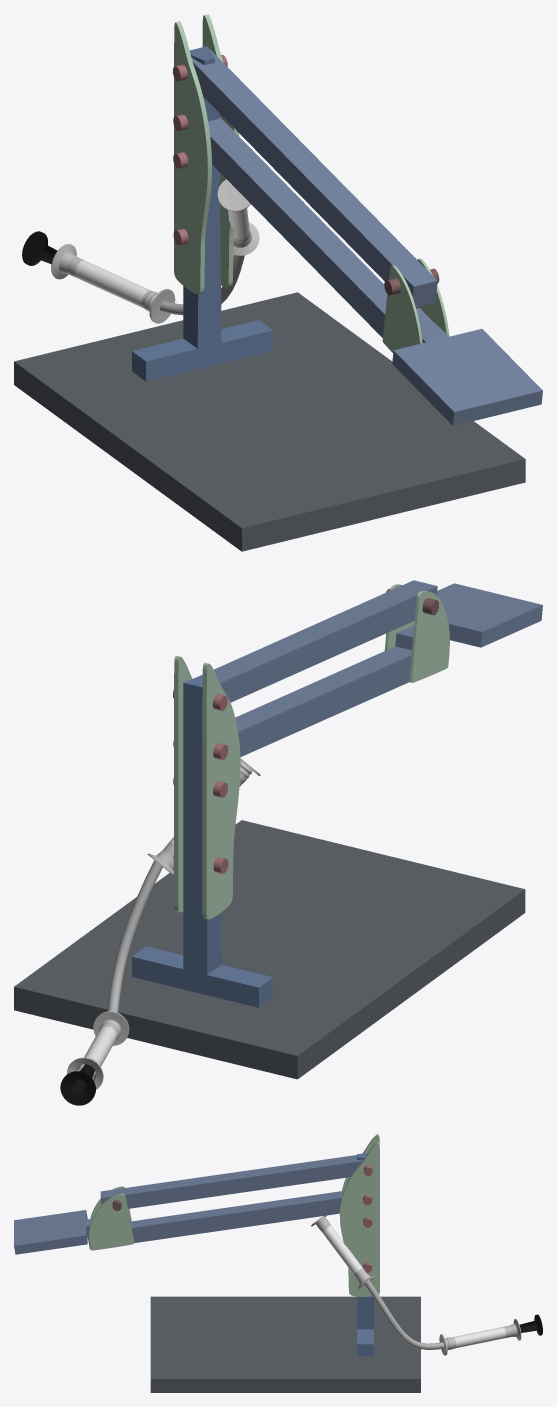
The model's file is fijo_sin_animacion.fbx.
3 views of the same model, one above another, from view 1: azimuth 30°, elevation 25°; view 2: azimuth 150°, elevation 25°; view 3: azimuth 270°, elevation 25° (orthographic). The views are drawn at different scales.
Visible parts, largest first — view 1: Cube, Cube.003, Circle.003, Circle.004, Circle.002, BezierCurve; view 2: Cube, Cube.003, Circle.003, BezierCurve, Circle.002, Circle.004; view 3: Cube, Cube.003, Circle.003, Circle.004, BezierCurve.
Part boxes in pixels (box(x1,y1,x2,y2)): Cube: box(14, 14, 525, 551); Cube.003: box(191, 49, 542, 425); Circle.003: box(51, 244, 175, 323); Circle.004: box(217, 179, 259, 255); Circle.002: box(22, 231, 57, 265); BezierCurve: box(160, 254, 244, 315); Cube: box(14, 655, 525, 1079); Cube.003: box(214, 580, 542, 757); Circle.003: box(67, 1011, 129, 1089); BezierCurve: box(107, 860, 162, 1012); Circle.002: box(60, 1064, 95, 1105); Circle.004: box(148, 758, 260, 875); Cube: box(150, 1134, 420, 1392); Cube.003: box(14, 1155, 363, 1254); Circle.003: box(439, 1319, 521, 1355); Circle.004: box(311, 1215, 375, 1288); BezierCurve: box(364, 1280, 444, 1349).
Bounding box in the file's own units: 299 × 361 × 813.
